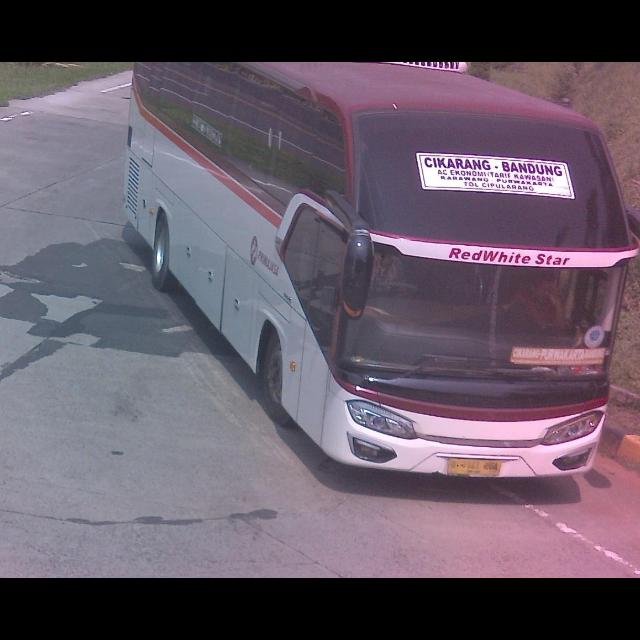plate: (442, 454, 506, 478)
